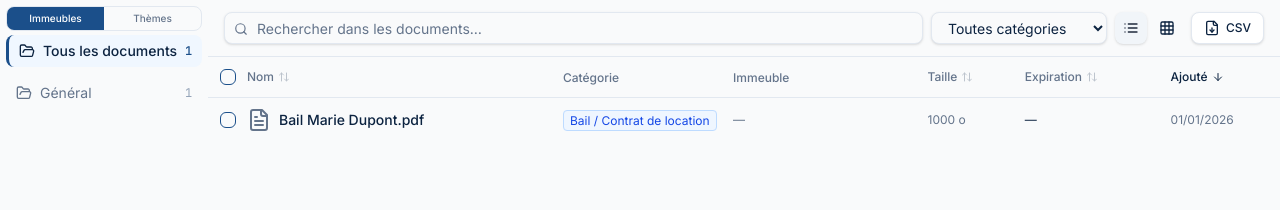
DocumentsClient › affiche les documents et permet de chercher
Expected: the text "Bail Marie Dupont.pdf" is shown, x1=279 y1=110 x2=424 y2=130
In the field with placeholder "Rechercher dans les documents…": (574, 28) x1=224 y1=12 x2=923 y2=44, type "introuvable"
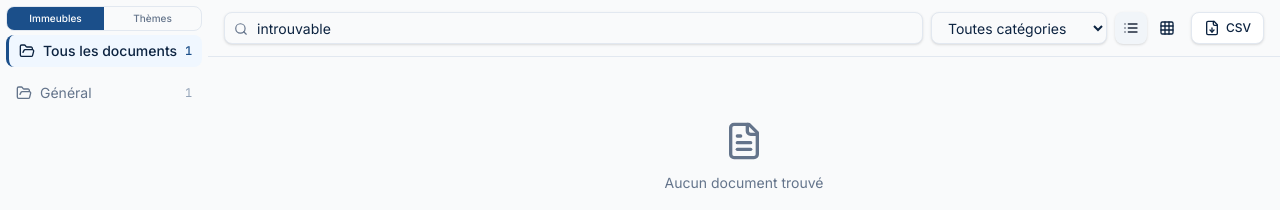
Result: the text "Aucun document trouvé" is shown at x1=665 y1=173 x2=824 y2=193
